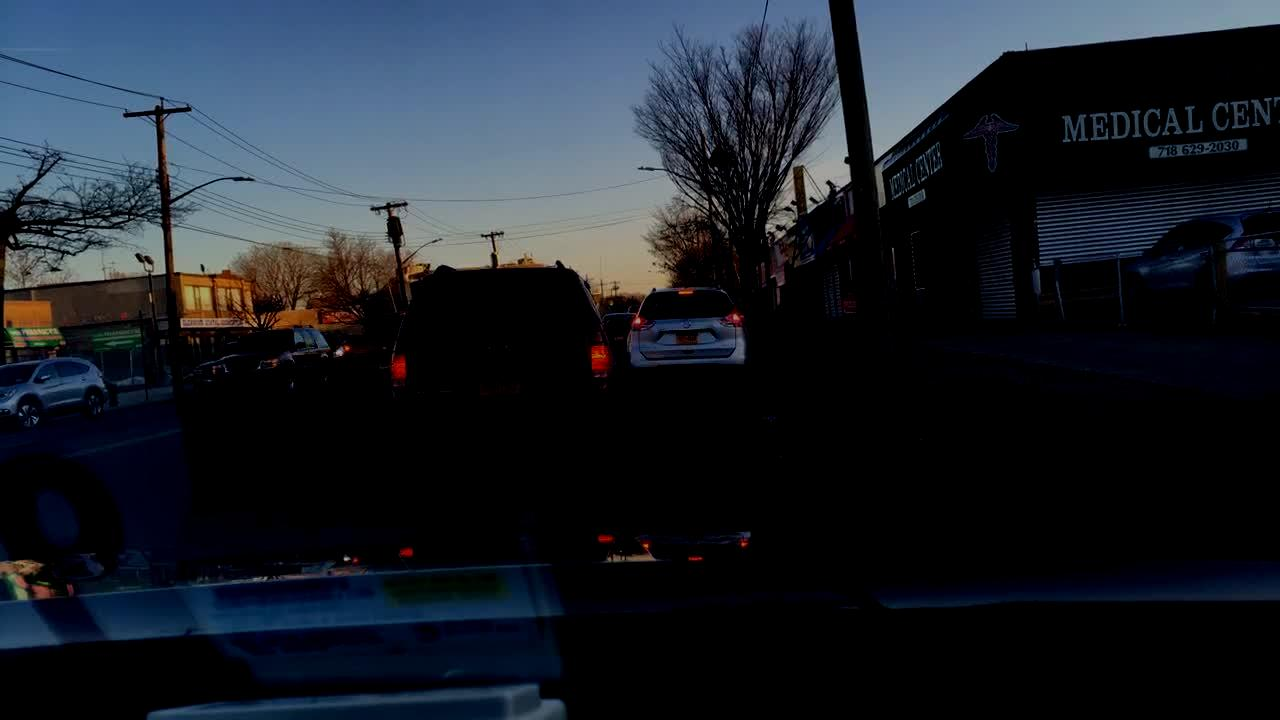ford: (487, 341, 510, 354)
